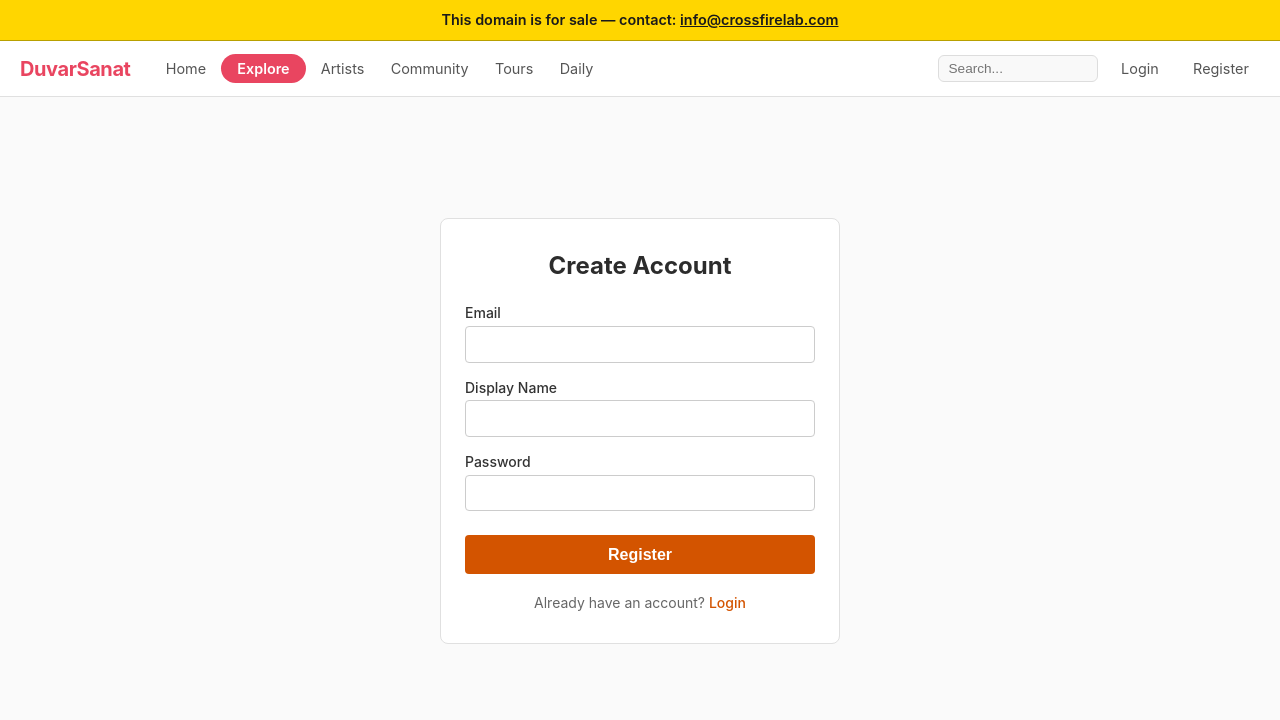
RegisterPage › shows invalid email error
In the field labelled "Email": (640, 344) [465, 326, 815, 363], type "not-an-email"
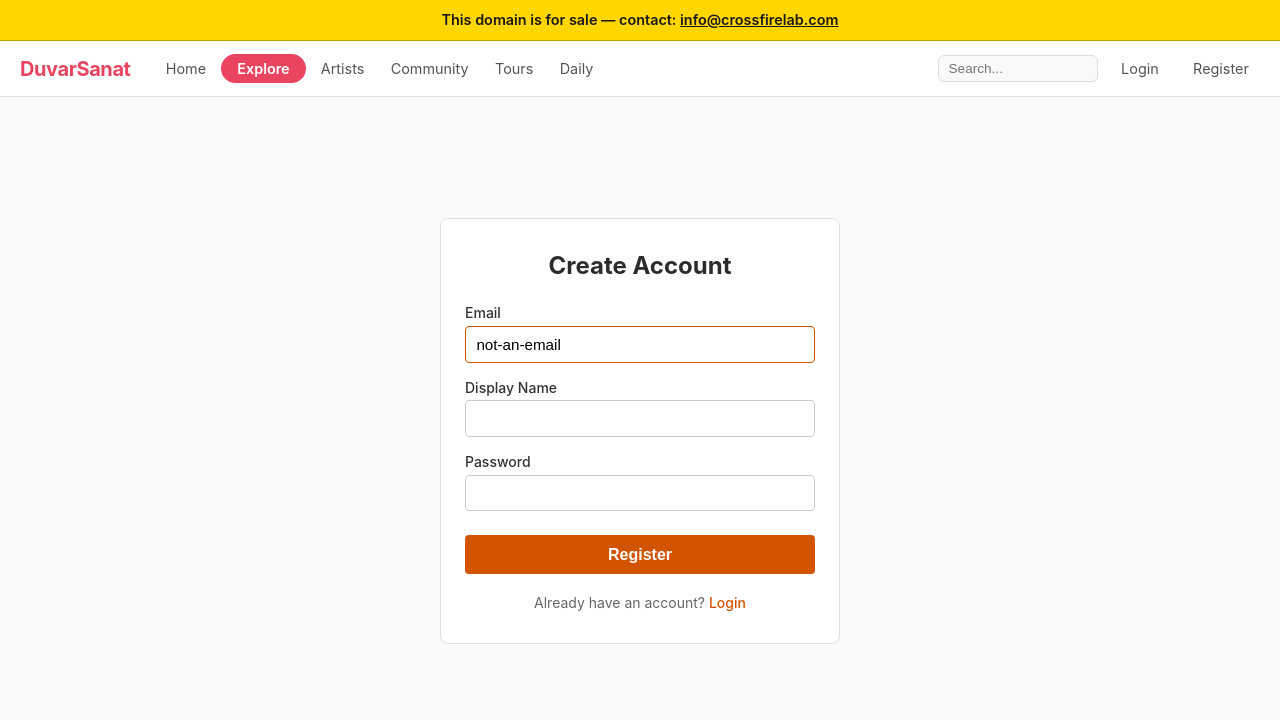
In the field labelled "Display Name": (640, 419) [465, 400, 815, 437], type "TestUser"
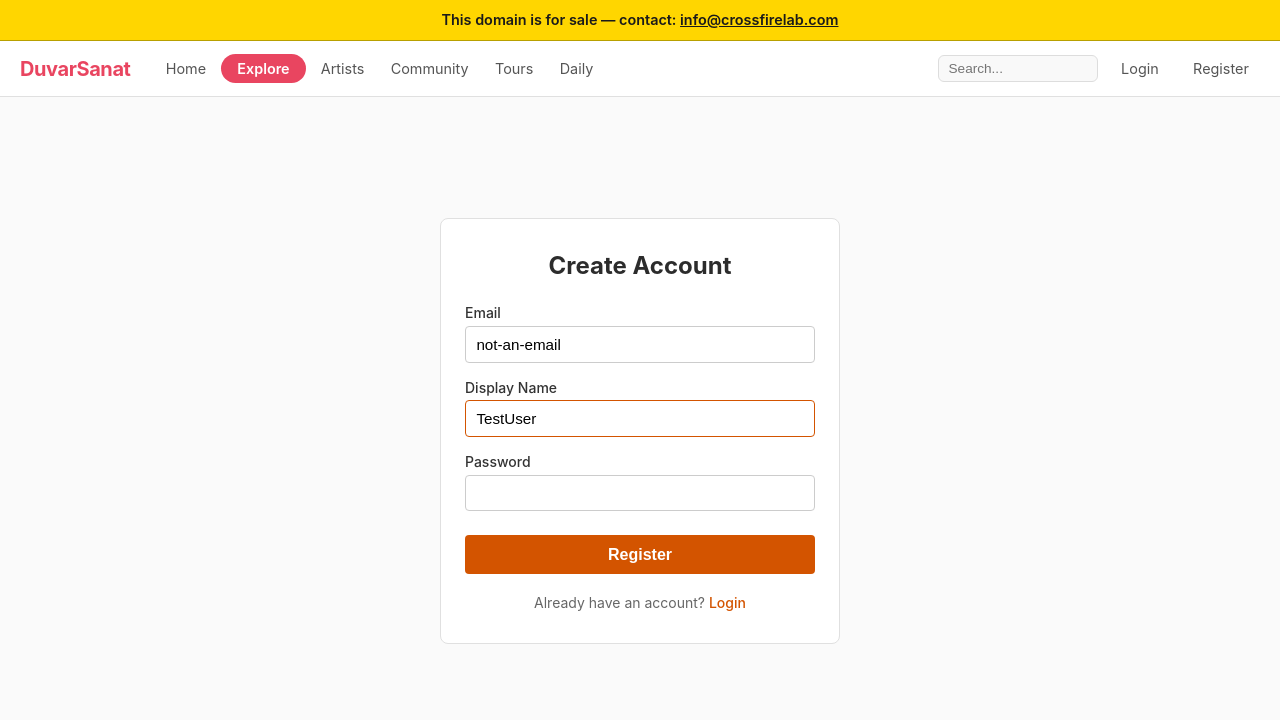
In the password field labelled "Password": (640, 493) [465, 475, 815, 511], type "longpassword123"
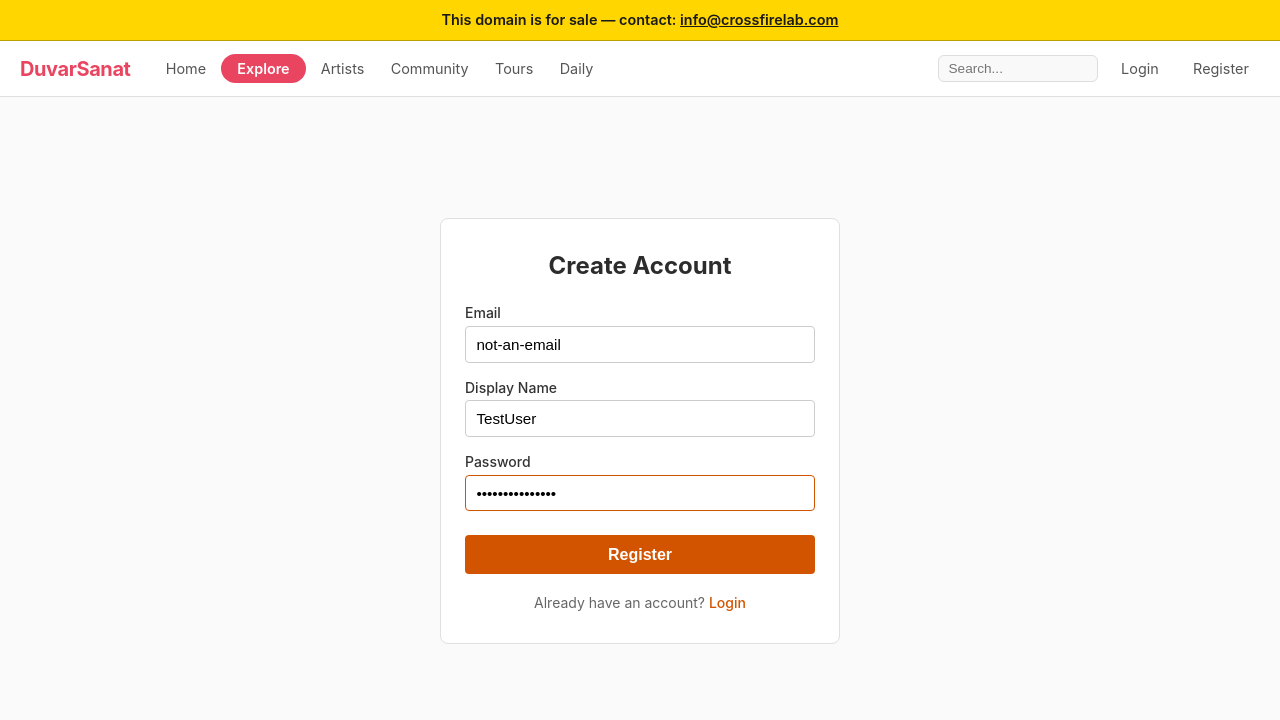
Click the button "Register": (640, 555) [465, 535, 815, 574]
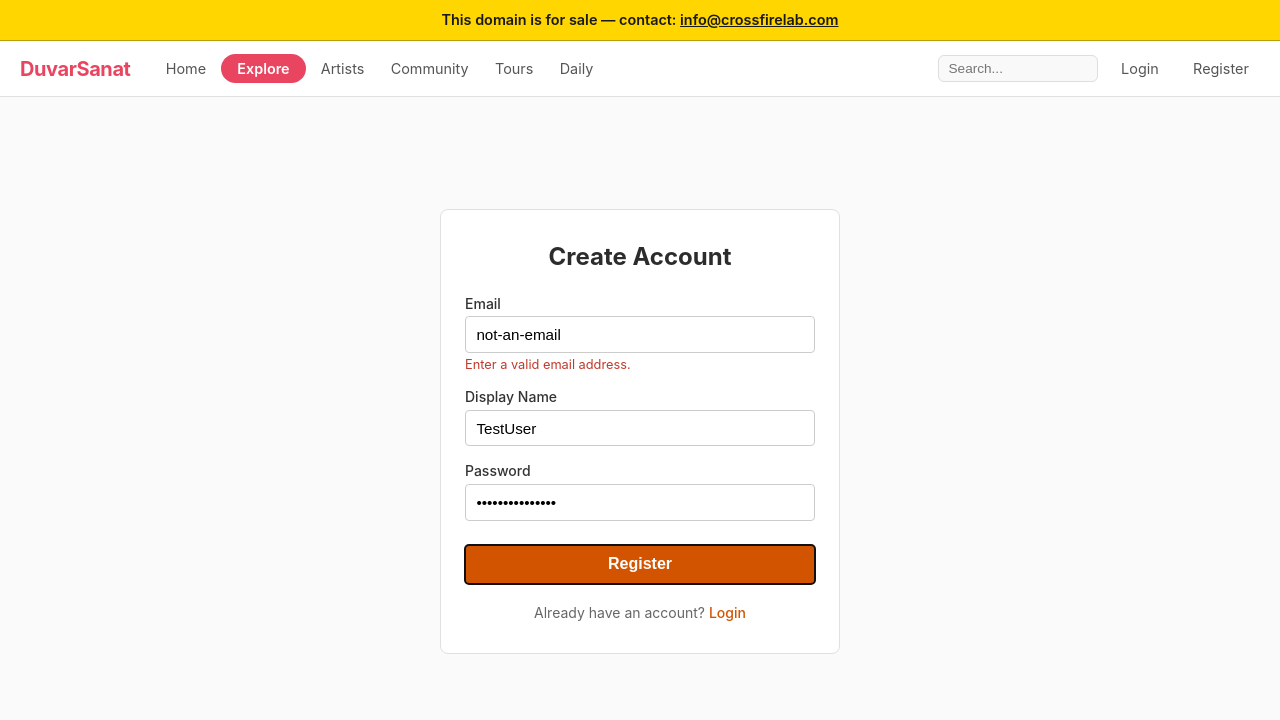
Result: the text "Enter a valid email address." is shown at [465, 357, 631, 372]
